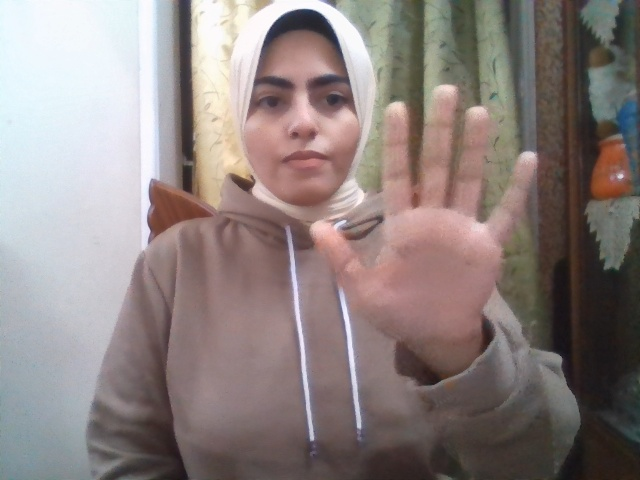hello: (310, 84, 539, 353)
